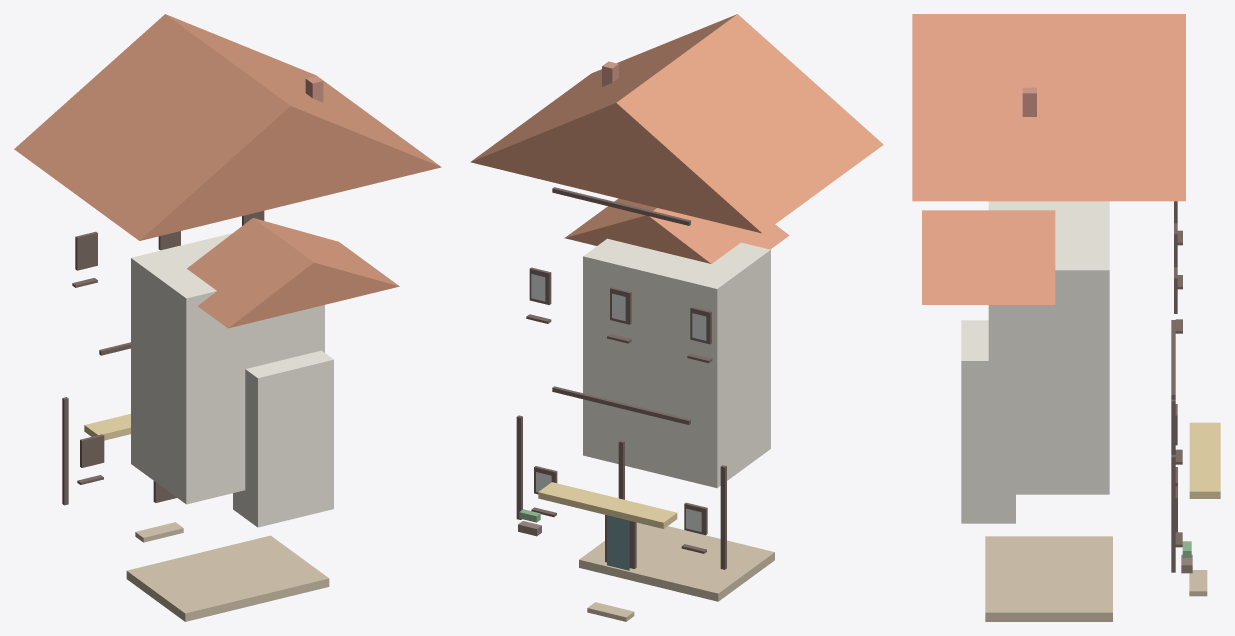
Rendered from ravnbro-bakery.glb.
3 renders of one model, left to right at view 1: azimuth 30°, elevation 25°; view 2: azimuth 150°, elevation 25°; view 3: azimuth 270°, elevation 25°, orthographic. The views are drawn at different scales.
Parts seen in each view (by area): view 1: roof, body, wing, wing_roof, plinth, awning, uwf_1_-0.93, up_-1.18, wf_-0.87, step; view 2: roof, body, plinth, wing_roof, awning, door, beam_1, beam_2, up_-1.18, up_1.18; view 3: roof, body, wing_roof, plinth, wing, awning, up_1.18, step, chimney.
Boxes of the visible parts, <box> form: roof: <box>14,14,441,240</box>; body: <box>131,233,324,504</box>; wing: <box>233,350,333,527</box>; wing_roof: <box>187,218,399,328</box>; plinth: <box>126,535,329,621</box>; awning: <box>84,414,130,440</box>; uwf_1_-0.93: <box>75,231,97,270</box>; up_-1.18: <box>62,397,68,505</box>; wf_-0.87: <box>80,434,104,467</box>; step: <box>135,522,183,542</box>; roof: <box>470,14,883,233</box>; body: <box>583,238,770,487</box>; plinth: <box>579,522,774,601</box>; wing_roof: <box>564,198,789,263</box>; awning: <box>538,482,677,528</box>; door: <box>607,515,629,570</box>; beam_1: <box>552,386,690,424</box>; beam_2: <box>552,187,690,225</box>; up_-1.18: <box>720,465,726,569</box>; up_1.18: <box>516,415,522,519</box>; roof: <box>912,14,1185,201</box>; body: <box>988,201,1109,494</box>; wing_roof: <box>922,210,1055,304</box>; plinth: <box>985,536,1112,621</box>; wing: <box>961,320,1015,523</box>; awning: <box>1189,422,1220,498</box>; up_1.18: <box>1171,455,1175,572</box>; step: <box>1189,570,1207,596</box>; chimney: <box>1022,87,1036,116</box>.
Bounding box in the file's own units: 3.38 × 5.61 × 2.74.
